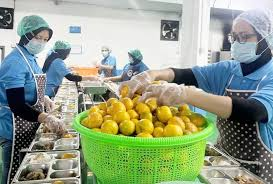cap: (227, 2, 273, 51), (21, 8, 52, 33), (119, 42, 147, 64), (51, 33, 75, 53), (94, 42, 116, 53)
